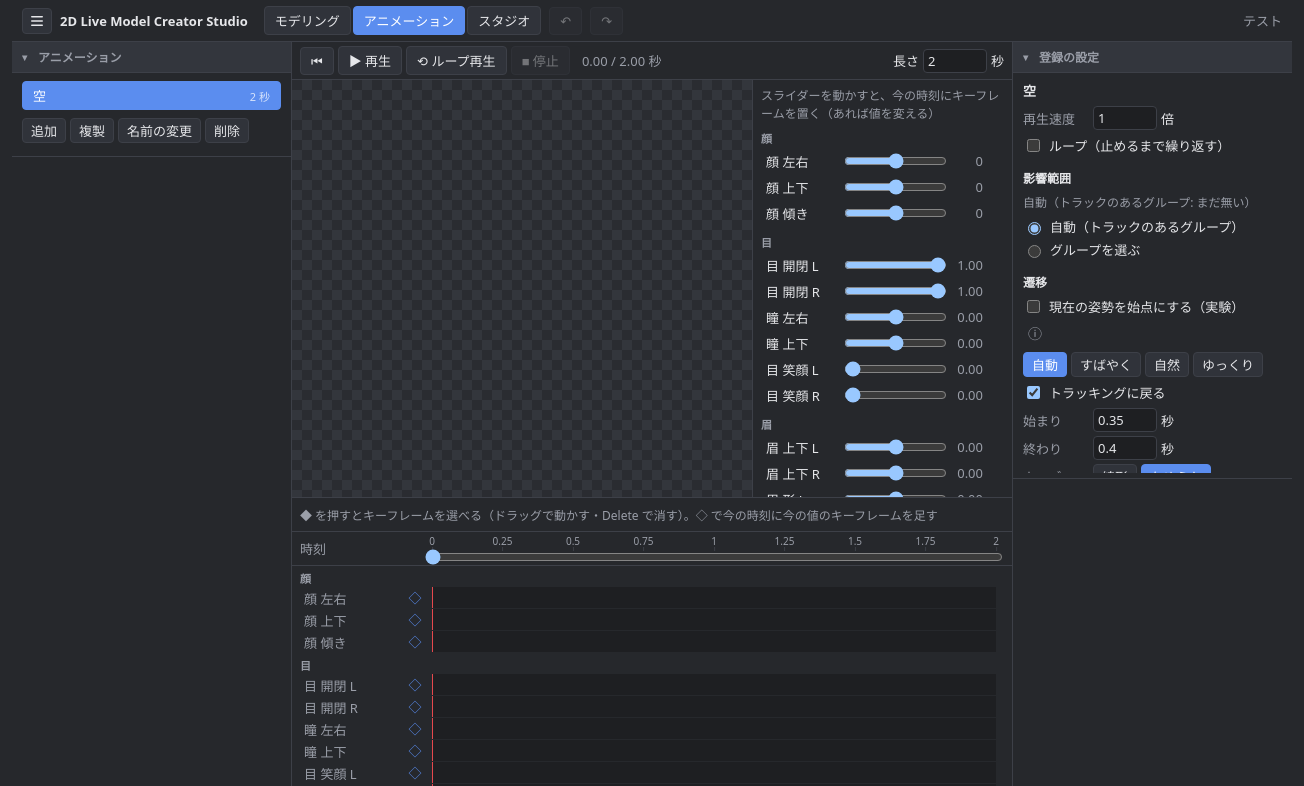
Test case: 登録の設定 › 影響範囲: トラックが無くても「グループを選ぶ」で選べる。すべて外すと自動に戻る
Expected: the text named "影響範囲の状態" reads "自動（トラックのあるグループ: まだ無い）", 1023,194 -> 1257,211
Click the radio button labelled "グループを選ぶ" at (1034, 251), box 1028,244 -> 1041,258
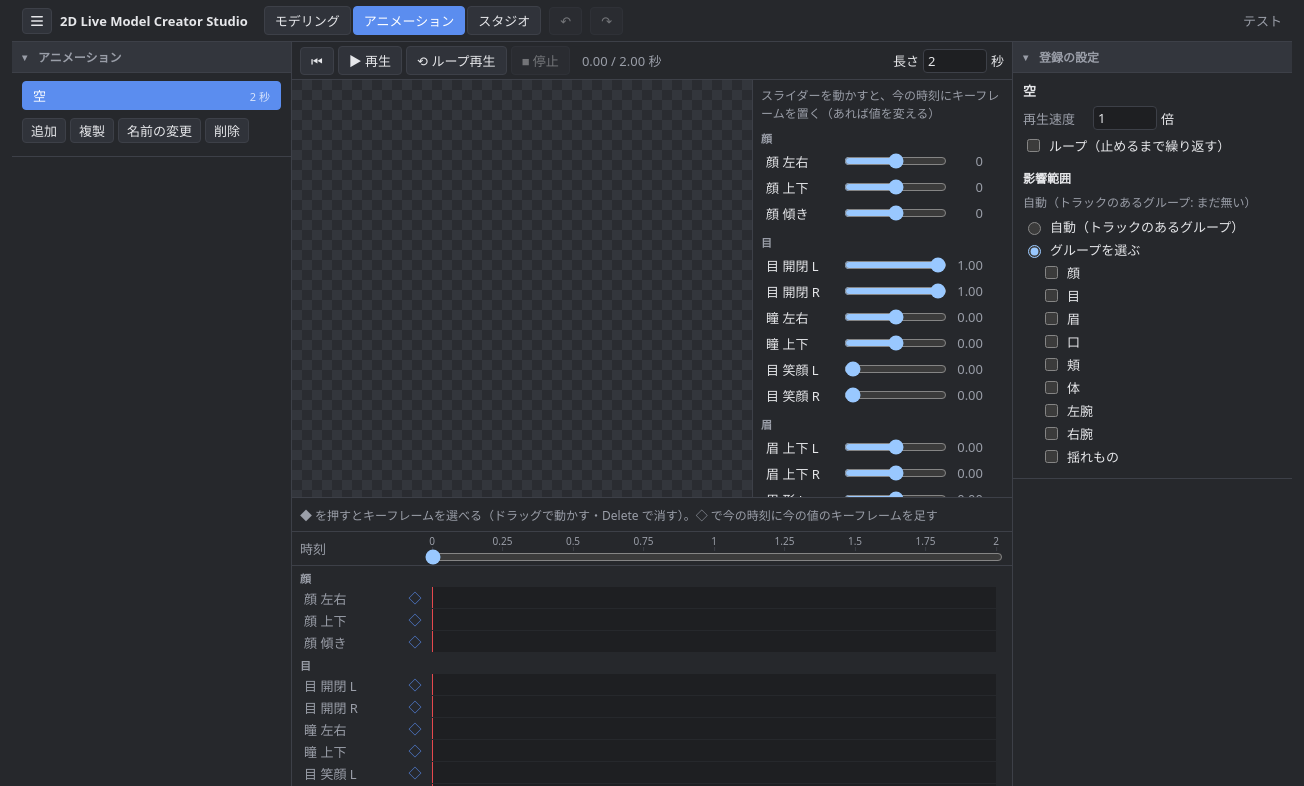
Click the checkbox labelled "左腕" at (1052, 410), box 1045,404 -> 1058,417
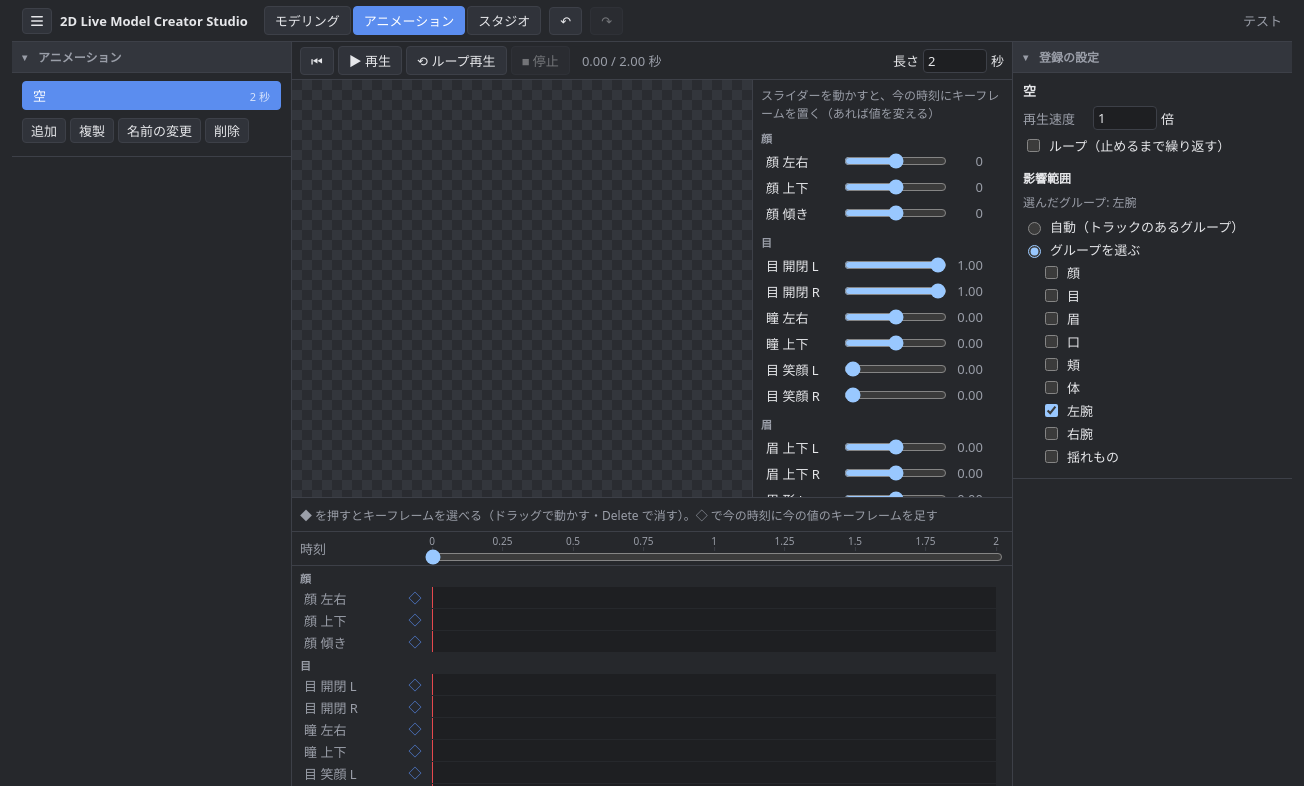
Click the checkbox labelled "左腕" at (1052, 410), box 1045,404 -> 1058,417
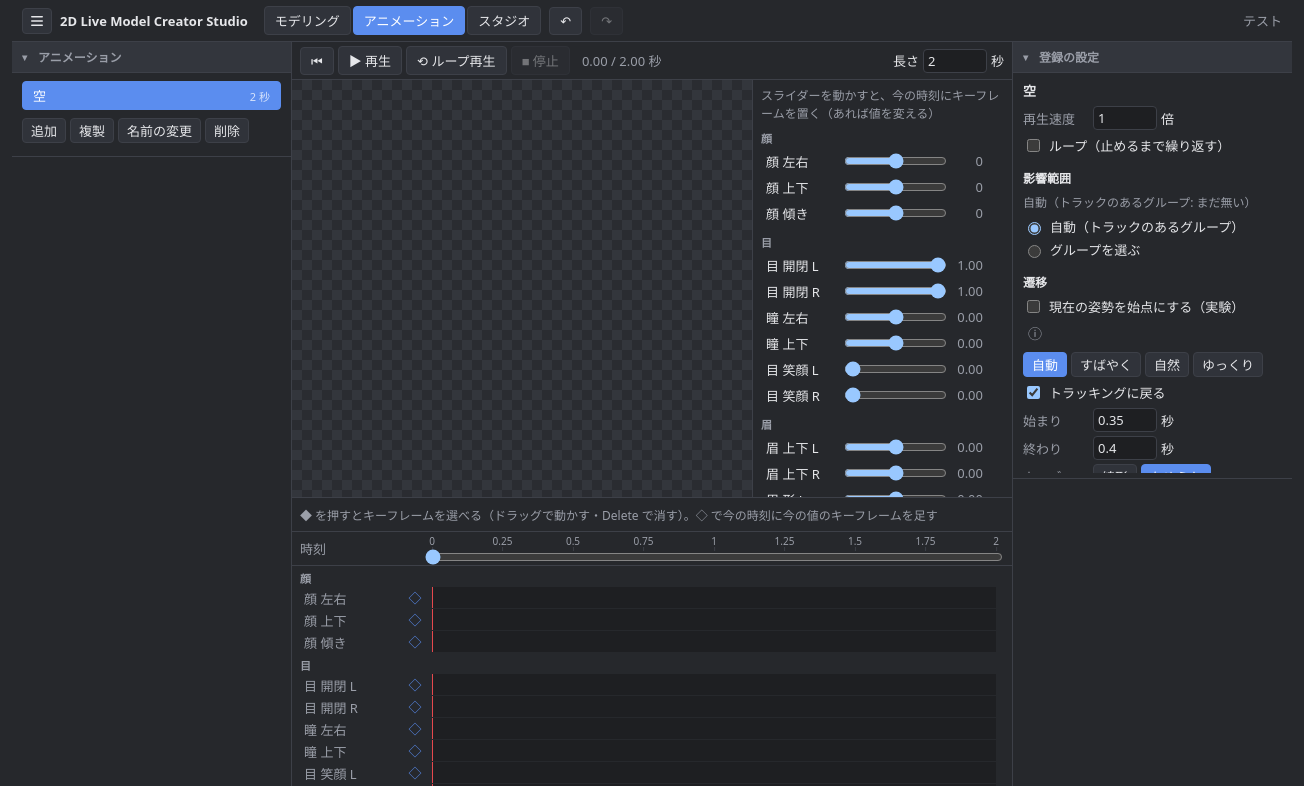
Now the radio button labelled "自動（トラックのあるグループ）" is checked, box 1028,222 -> 1041,234
